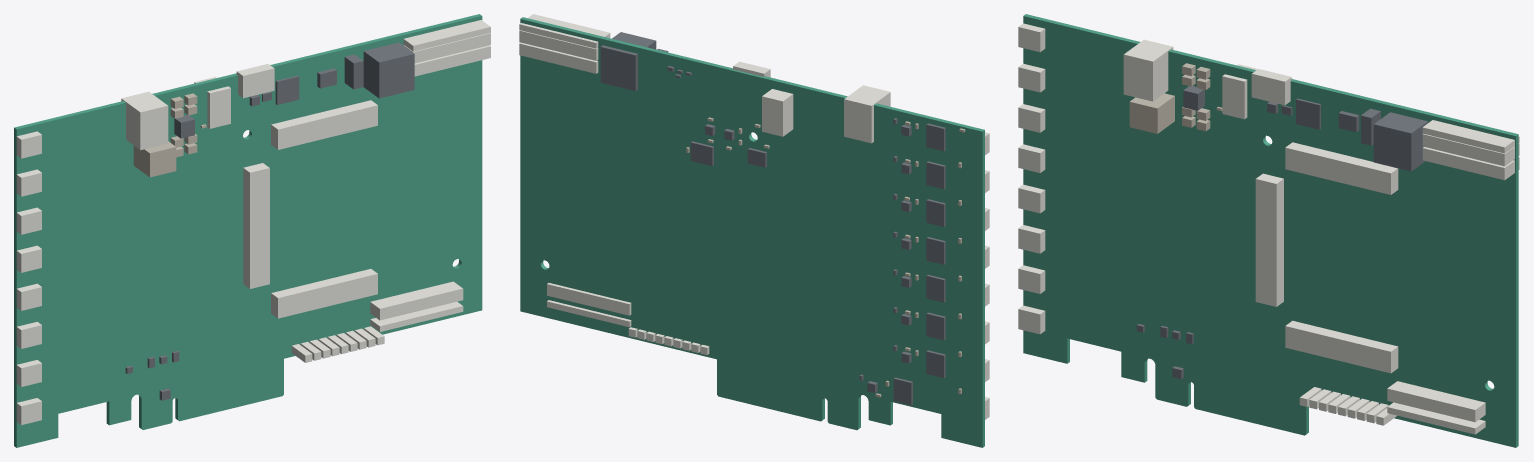
Rendered from HDMI_Extension_V41.glb.
3 renders of one model, left to right at view 1: azimuth 30°, elevation 25°; view 2: azimuth 150°, elevation 25°; view 3: azimuth 330°, elevation 25°, orthographic. The views are drawn at different scales.
Visible parts, largest first — view 1: board, conn, ic, passive; view 2: board, conn, ic, passive; view 3: board, conn, ic, passive.
Part boxes in pixels (<box>): board: <box>14,14,482,447</box>; conn: <box>16,20,490,424</box>; ic: <box>125,42,414,400</box>; passive: <box>133,93,206,177</box>; board: <box>520,17,984,447</box>; conn: <box>519,14,989,419</box>; ic: <box>600,32,945,405</box>; passive: <box>686,117,965,397</box>; board: <box>1023,14,1518,447</box>; conn: <box>1018,23,1519,434</box>; ic: <box>1136,86,1427,379</box>; passive: <box>1129,63,1222,133</box>.
Size of the model in its own units: 168 by 115 by 18.24.
